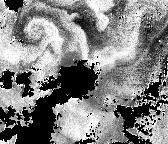CE: (21, 18, 57, 43)
